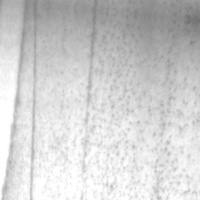pitted_surface: (80, 13, 199, 199)
